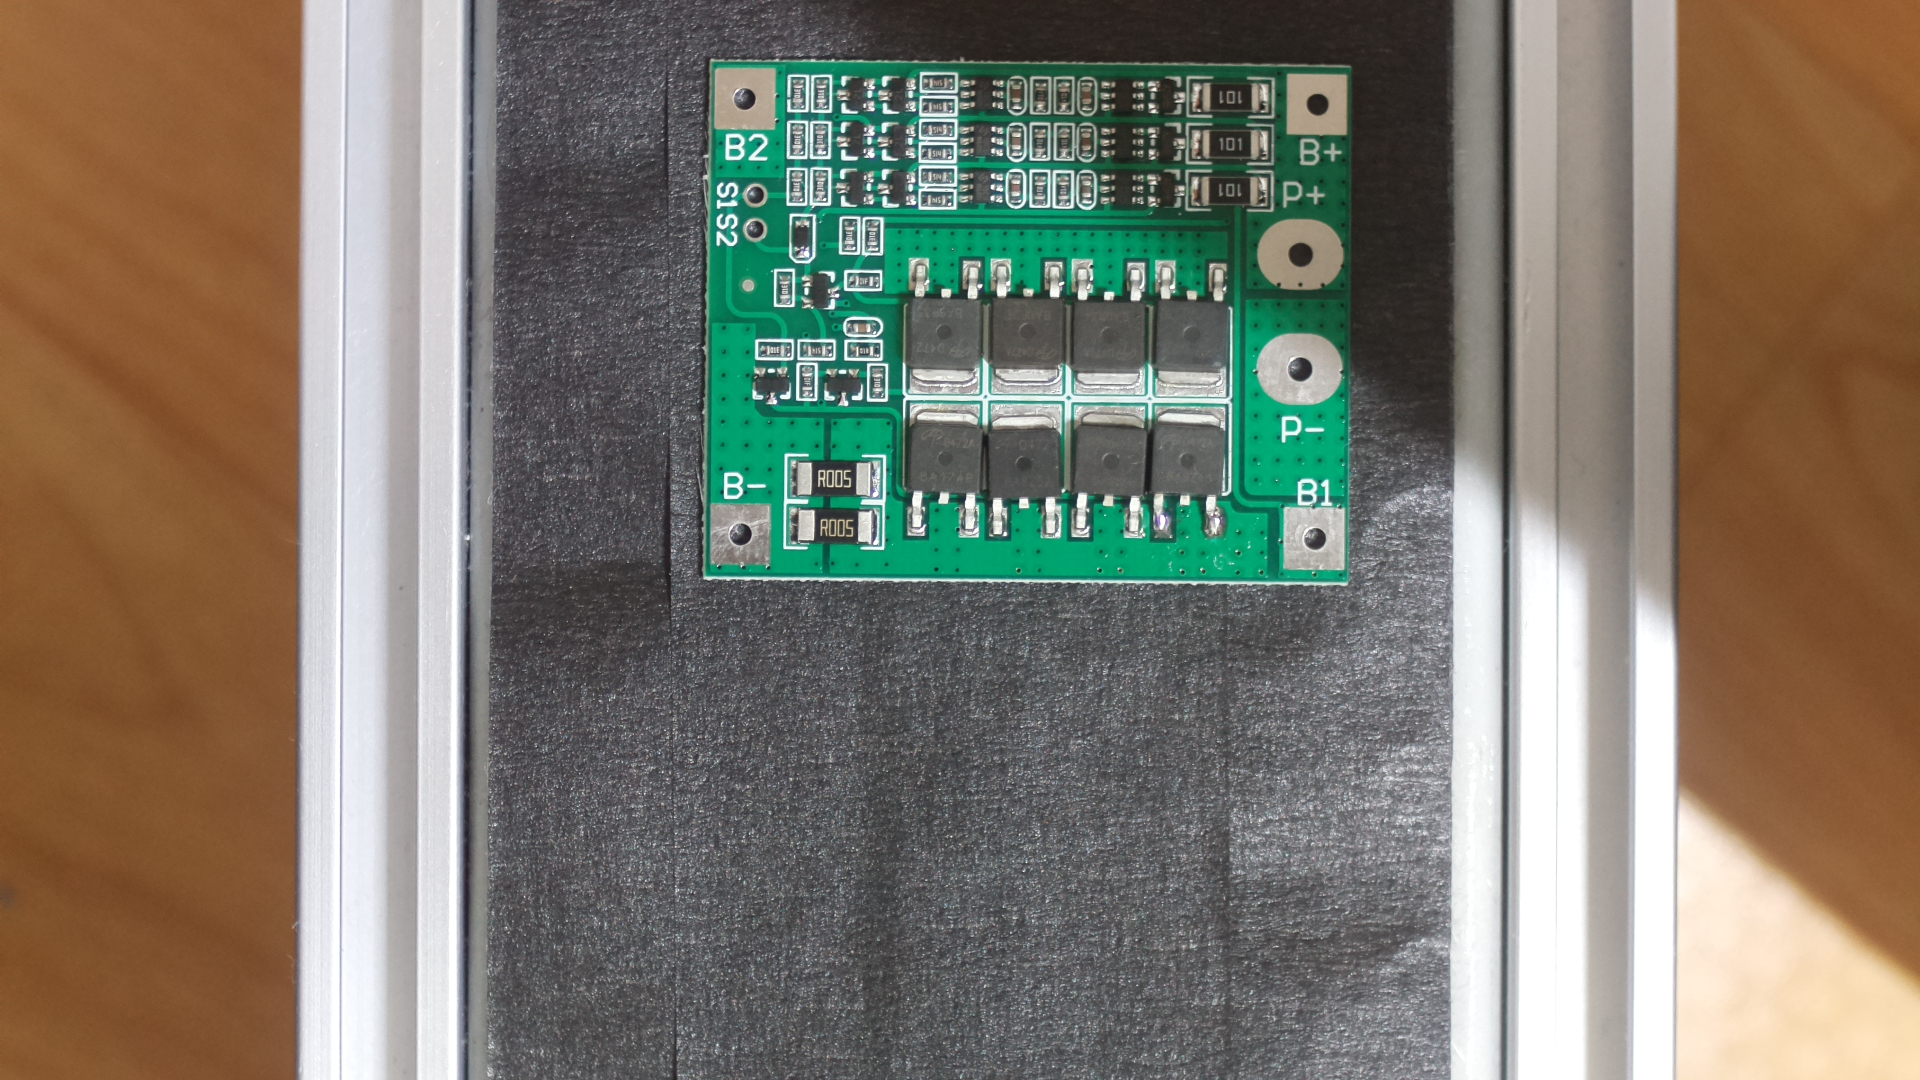C_Normal: (696, 36, 1364, 609)
